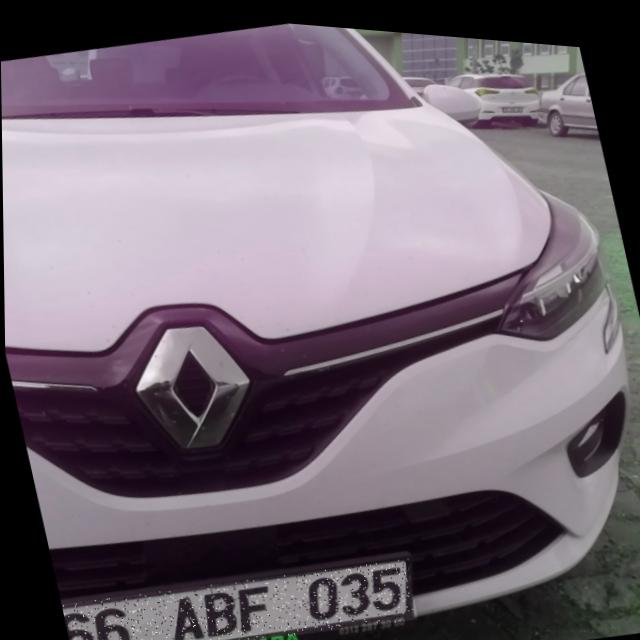license_plate: (58, 529, 416, 640)
